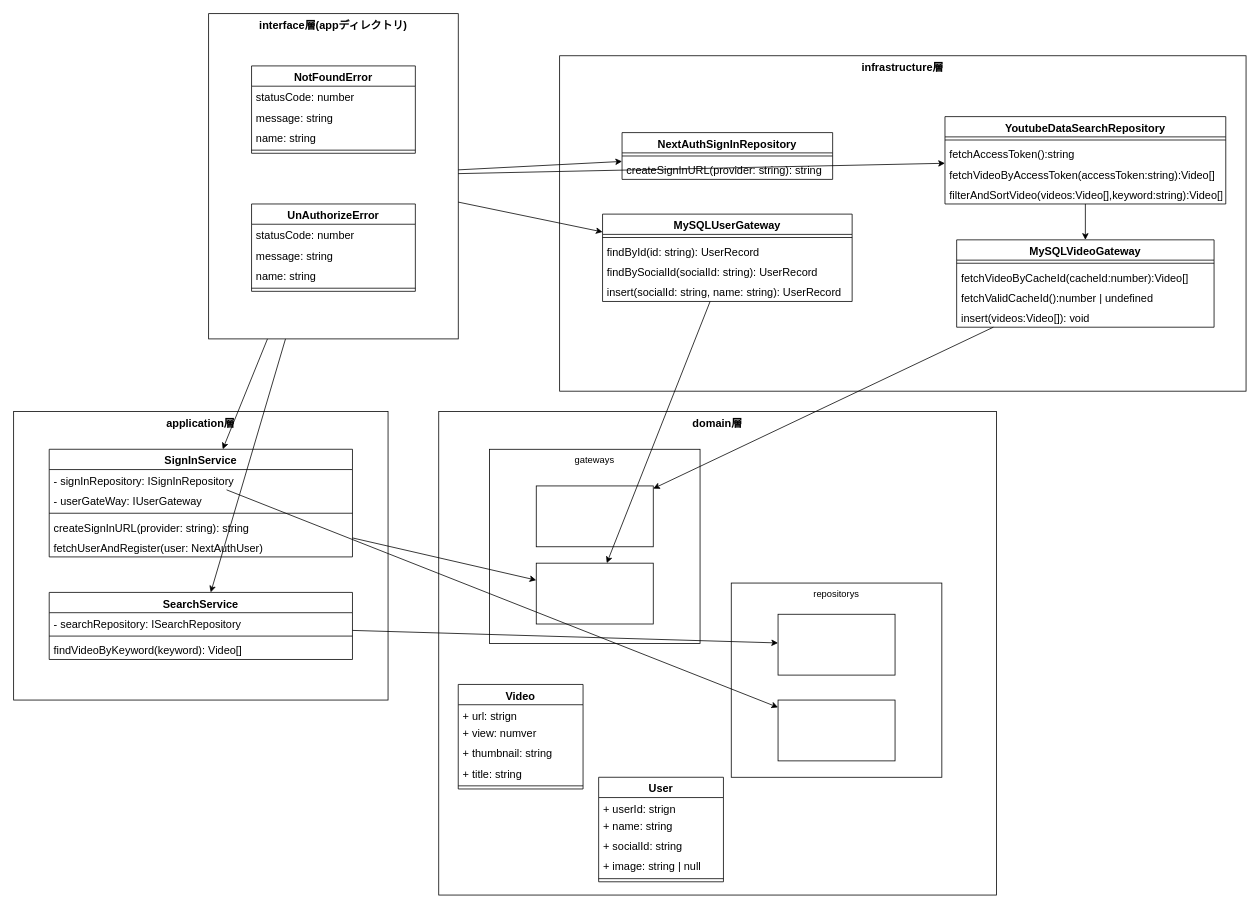
Some shapes in this 1260 by 909 pixel diagram are drawn without their labels. The shapes that lost their labels are listed below. From the top down, each one's centre as x and y in pixels, then its label:
At pixel 594 516: "«interface» IVideoGateway".
At pixel 594 593: "«interface» IUserGateway".
At pixel 836 644: "«interface» ISearchReepository".
At pixel 836 730: "«interface» ISignInRepository".
